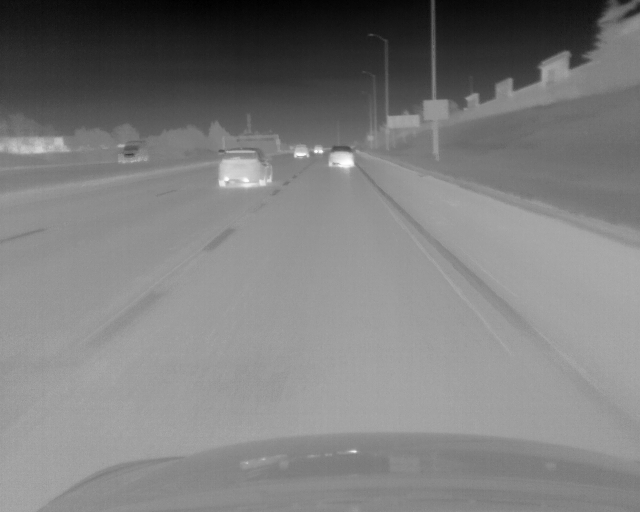car: (216, 149, 273, 187), (120, 140, 148, 162), (328, 146, 354, 168), (294, 143, 308, 158), (313, 144, 323, 153)
